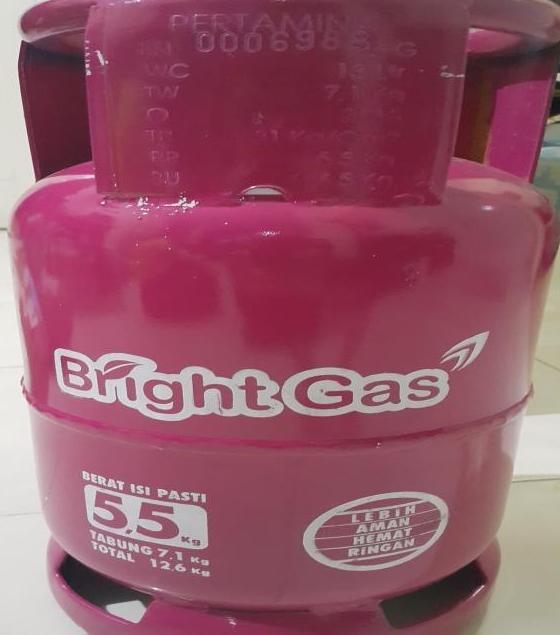cylinder: (1, 0, 560, 635)
